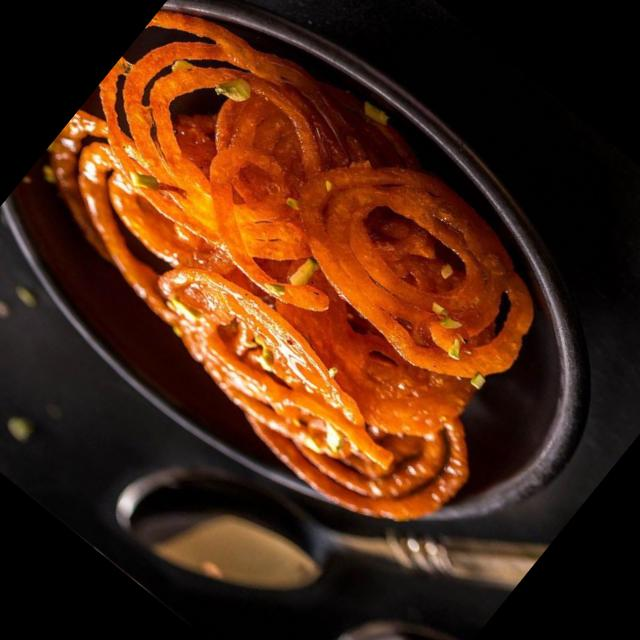jalebi: (0, 0, 615, 565)
